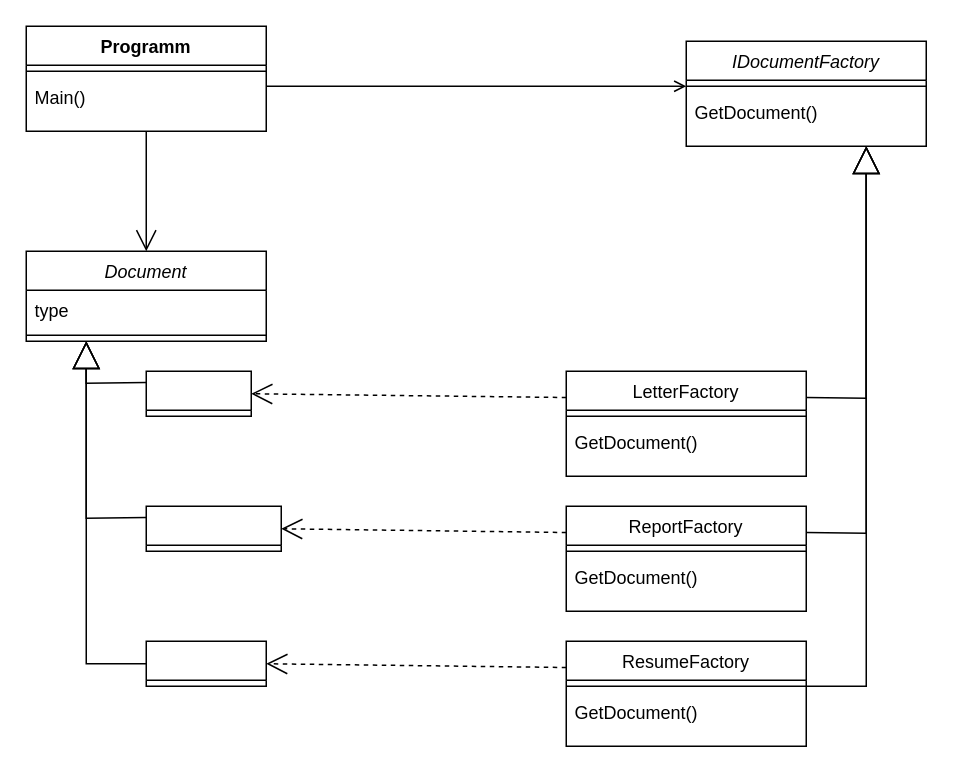
The diagram is 953 pixels wide and 773 high, and some of its shapes have lost their labels. The shapes that lost their labels are listed below. From the top down, each one's centre as x and y in pixels, then its label:
pixel 198 393: Letter
pixel 213 528: Resume
pixel 205 663: Report
